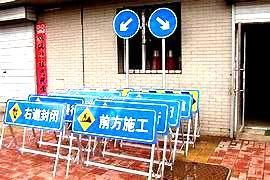sign: (74, 105, 156, 142), (4, 102, 65, 129)
